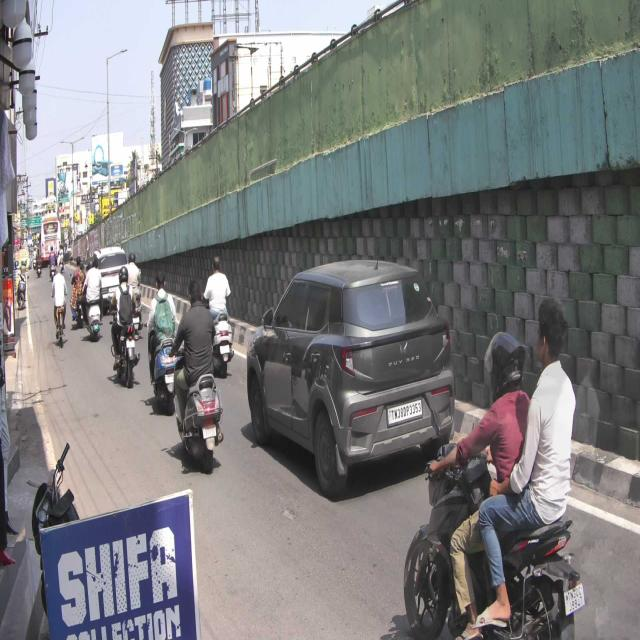double_rider: (402, 290, 585, 640)
single_rider: (167, 276, 225, 476)
